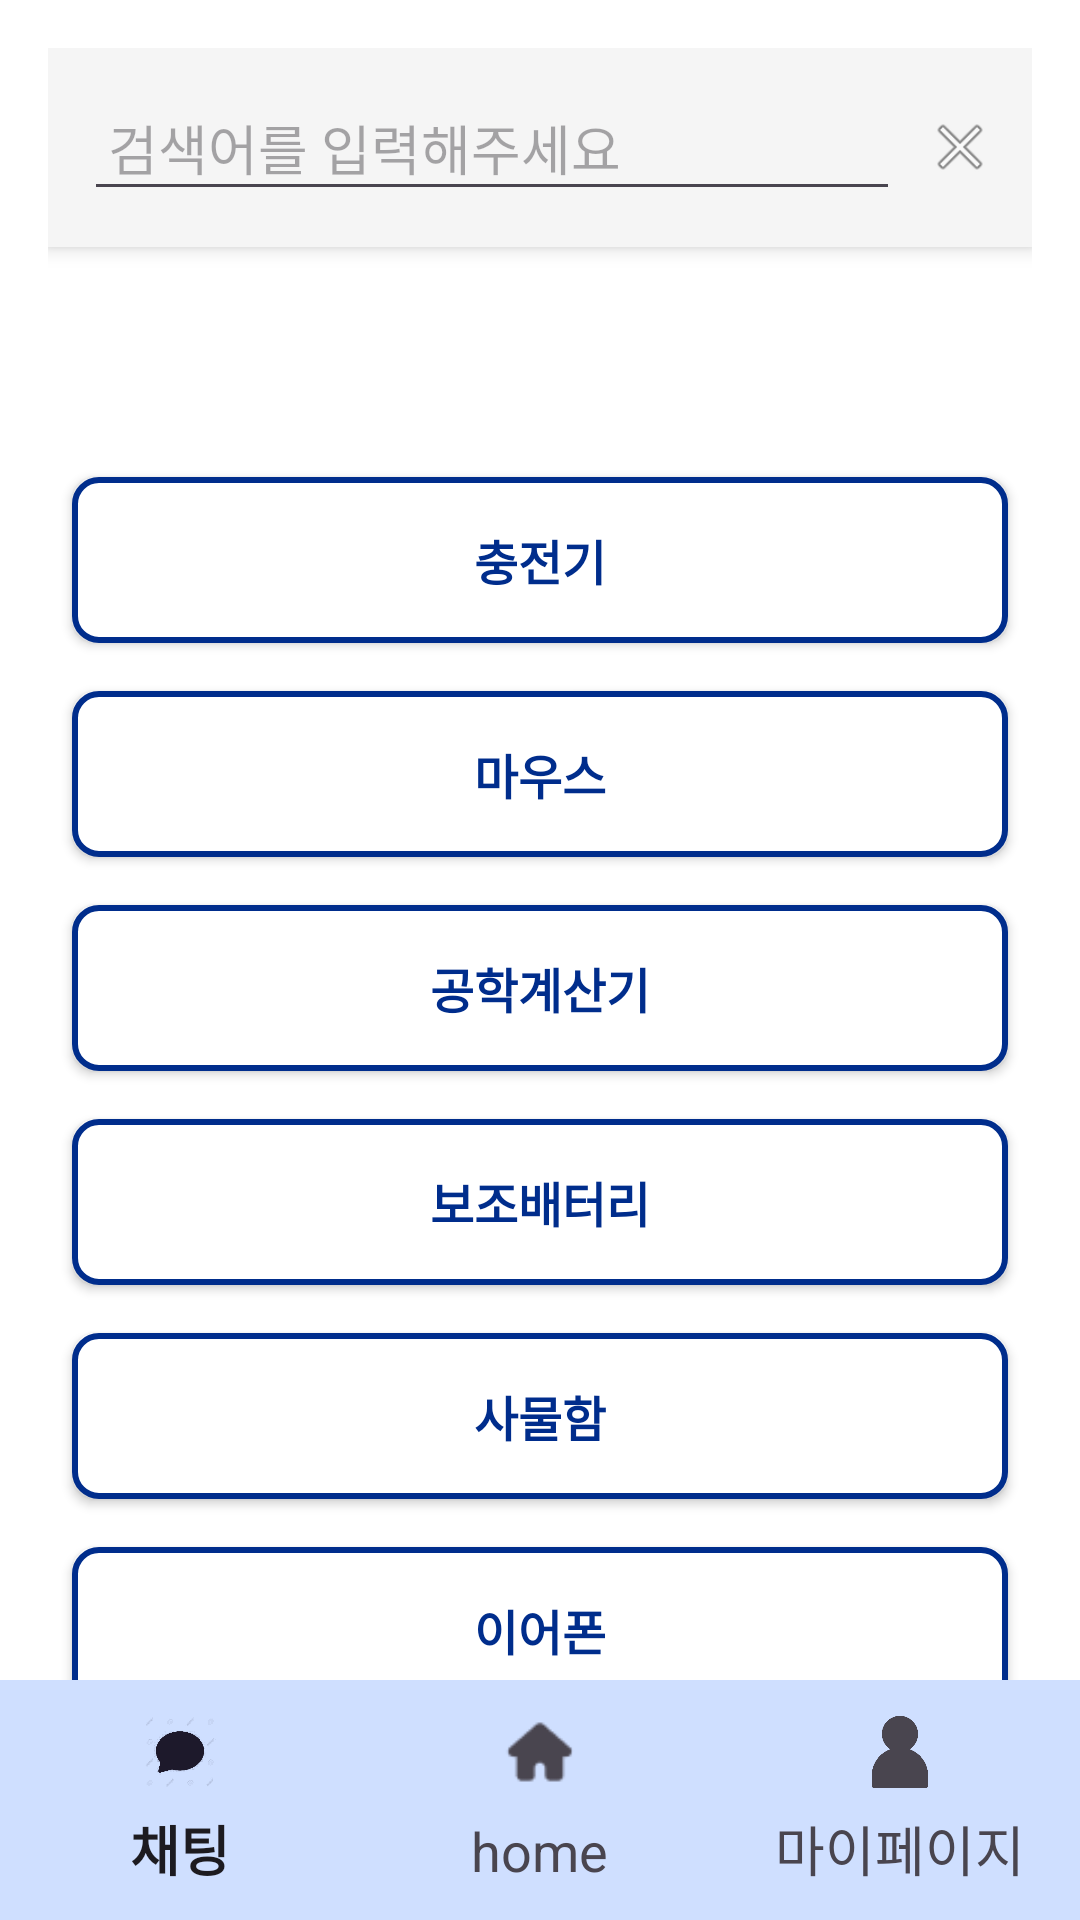

Icon click points for this 1080px×1920px phone screenshot, format (x=x, y=y):
Clear Search: (x=960, y=147)
